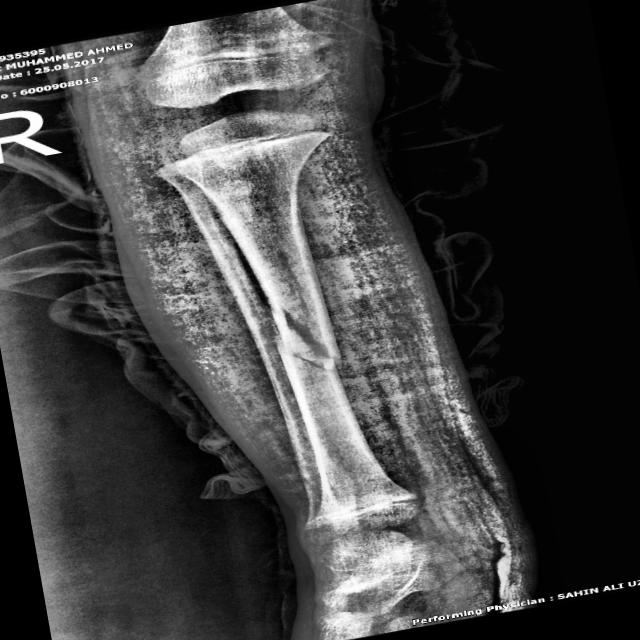Fracture: (258, 286, 354, 385)
